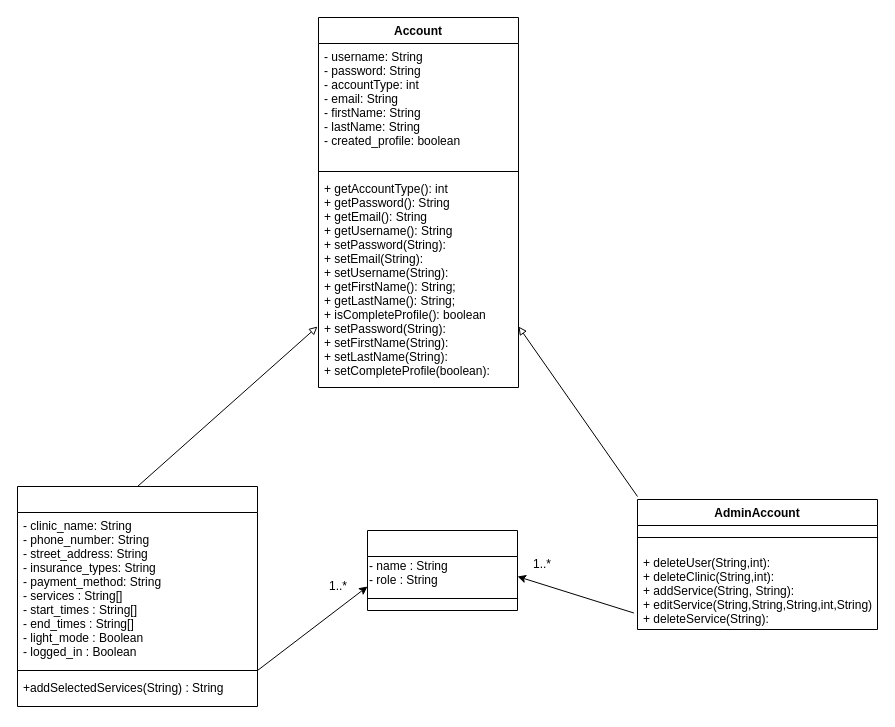
This 895x727 diagram has some shape labels left out. The box of each missing label's shape, as (x1, y1, x2, y2) in pixels:
ClinicAccount: (16, 486, 258, 706)
Services: (366, 530, 518, 610)
